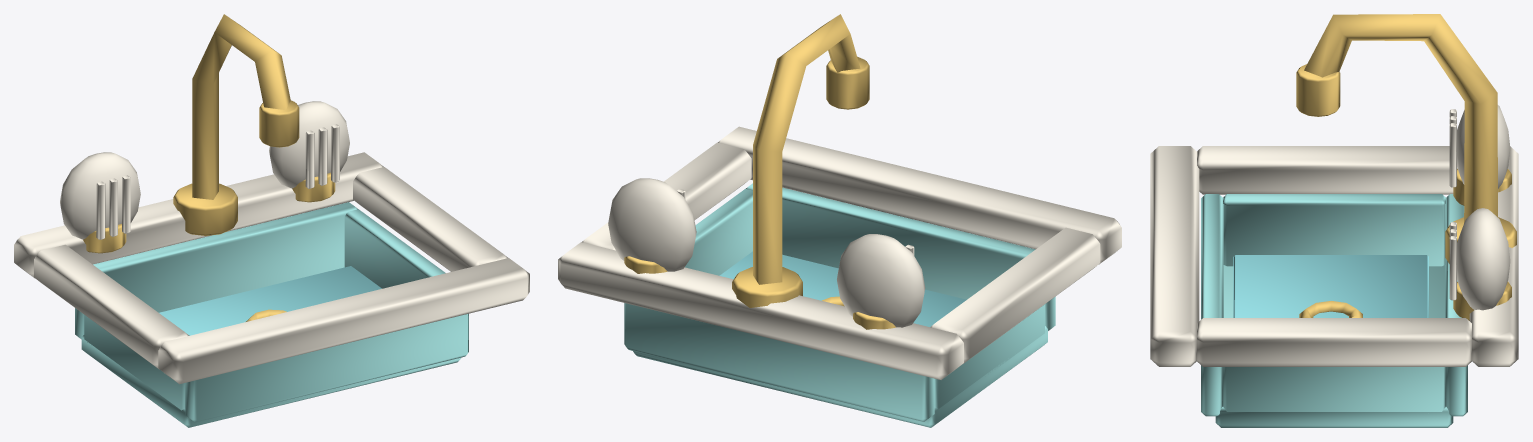
The model's file is kitchen_sink.glb.
3 renders of one model, left to right at view 1: azimuth 30°, elevation 25°; view 2: azimuth 150°, elevation 25°; view 3: azimuth 270°, elevation 25°, orthographic. The views are drawn at different scales.
Visible parts, largest first — view 1: SinkPorcelain, SinkBasin, SinkMetal, SinkWater; view 2: SinkPorcelain, SinkBasin, SinkMetal, SinkWater; view 3: SinkPorcelain, SinkBasin, SinkMetal, SinkWater.
Part boxes in pixels (box(x1,y1,x2,y2)): SinkPorcelain: box(14, 101, 529, 384); SinkBasin: box(75, 202, 468, 427); SinkMetal: box(83, 14, 335, 321); SinkWater: box(159, 266, 381, 335); SinkPorcelain: box(558, 126, 1121, 379); SinkBasin: box(624, 183, 1055, 427); SinkMetal: box(624, 14, 895, 329); SinkWater: box(719, 251, 966, 326); SinkPorcelain: box(1150, 105, 1518, 366); SinkBasin: box(1201, 194, 1467, 427); SinkMetal: box(1296, 14, 1516, 320); SinkWater: box(1233, 255, 1428, 317).
Size of the model in its own units: 2.8 by 2.31 by 2.26.
